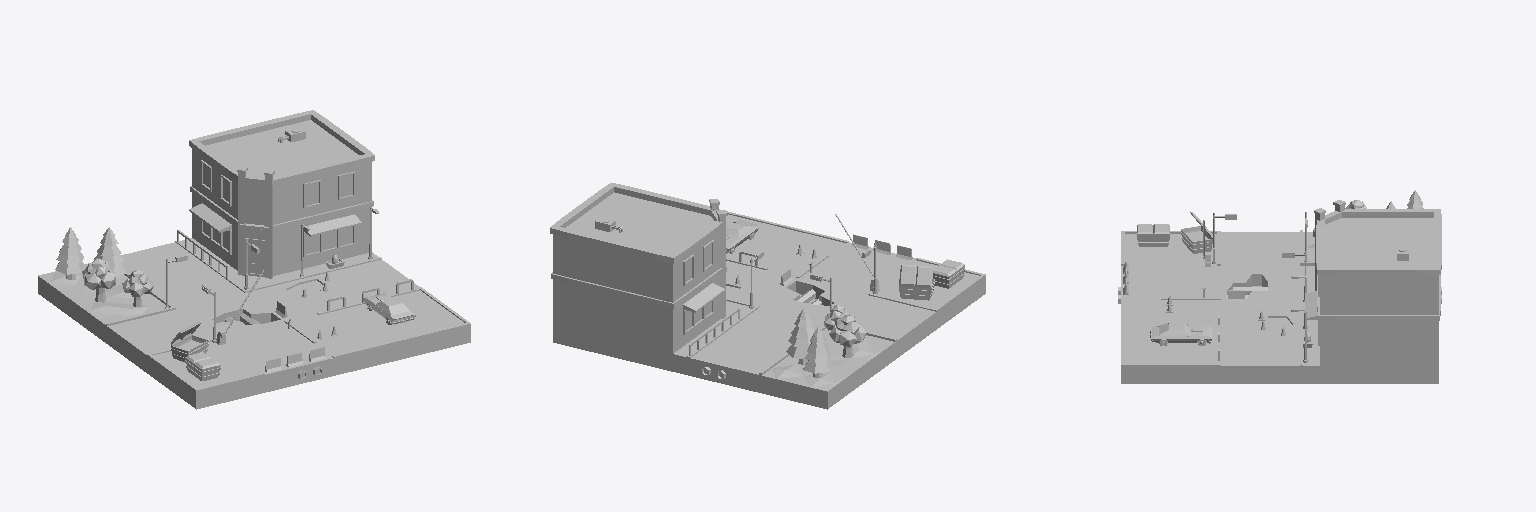
File: city.obj
The picture shows the model from 3 angles: view 1: azimuth 30°, elevation 25°; view 2: azimuth 150°, elevation 25°; view 3: azimuth 270°, elevation 25°; orthographic projection.
Parts seen in each view (by area): view 1: Car_Plane.039; view 2: Car_Plane.039; view 3: Car_Plane.039.
Boxes of the visible parts, <box> form: Car_Plane.039: <box>38,110,470,409</box>; Car_Plane.039: <box>550,183,985,409</box>; Car_Plane.039: <box>1118,190,1441,383</box>.
Bounding box in the file's own units: 30.32 × 12.87 × 30.72.